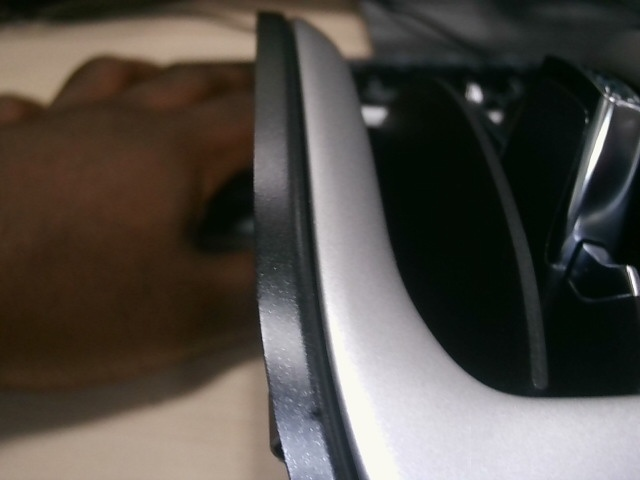NG: (254, 189, 288, 296)
